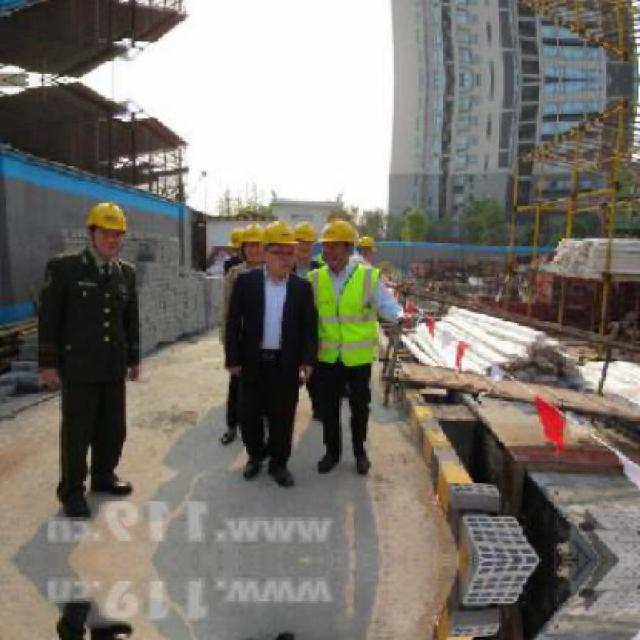helmet: (85, 200, 132, 258), (317, 216, 354, 270), (260, 224, 292, 270), (294, 222, 318, 266), (242, 220, 263, 263)
